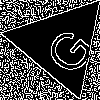G: (35, 19, 98, 79)
